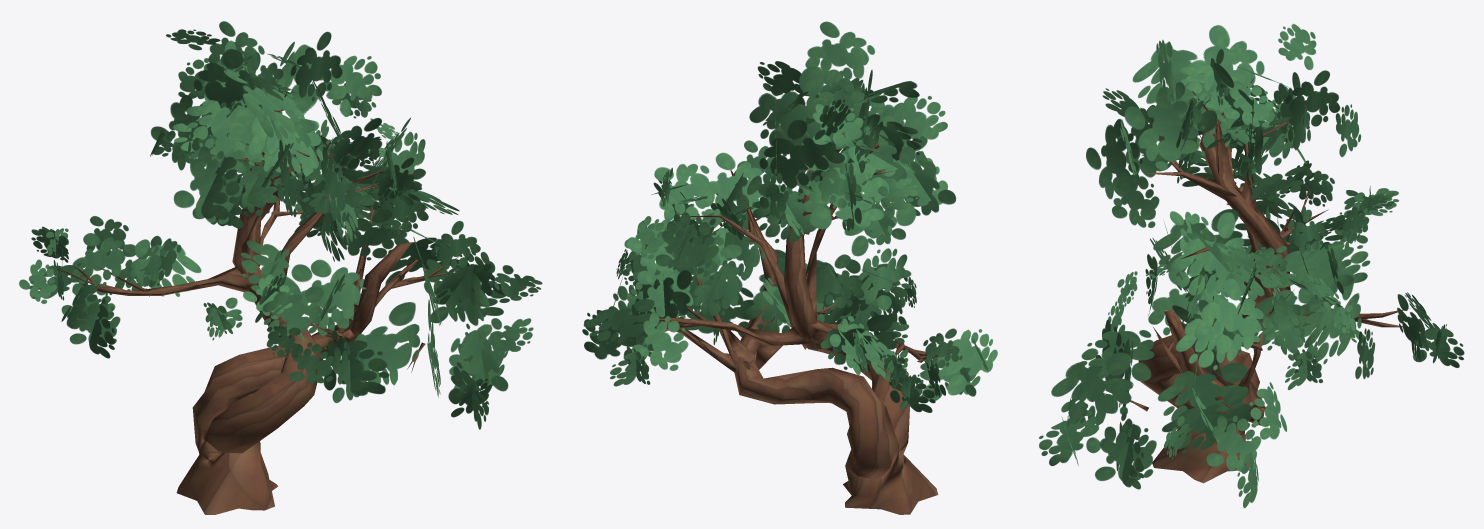
File: SM_Tree_02.glb
The picture shows the model from 3 angles, left to right: view 1: azimuth 30°, elevation 25°; view 2: azimuth 150°, elevation 25°; view 3: azimuth 270°, elevation 25°; orthographic projection. The views are drawn at different scales.
Parts seen in each view (by area): view 1: SM_Tree_02; view 2: SM_Tree_02; view 3: SM_Tree_02.
Boxes of the visible parts, bbox=[...] form: SM_Tree_02: bbox=[19, 21, 542, 514]; SM_Tree_02: bbox=[582, 21, 997, 514]; SM_Tree_02: bbox=[1039, 24, 1464, 508].
Bounding box in the file's own units: 10.28 × 9.91 × 8.5.
2 materials, 2 textured.
